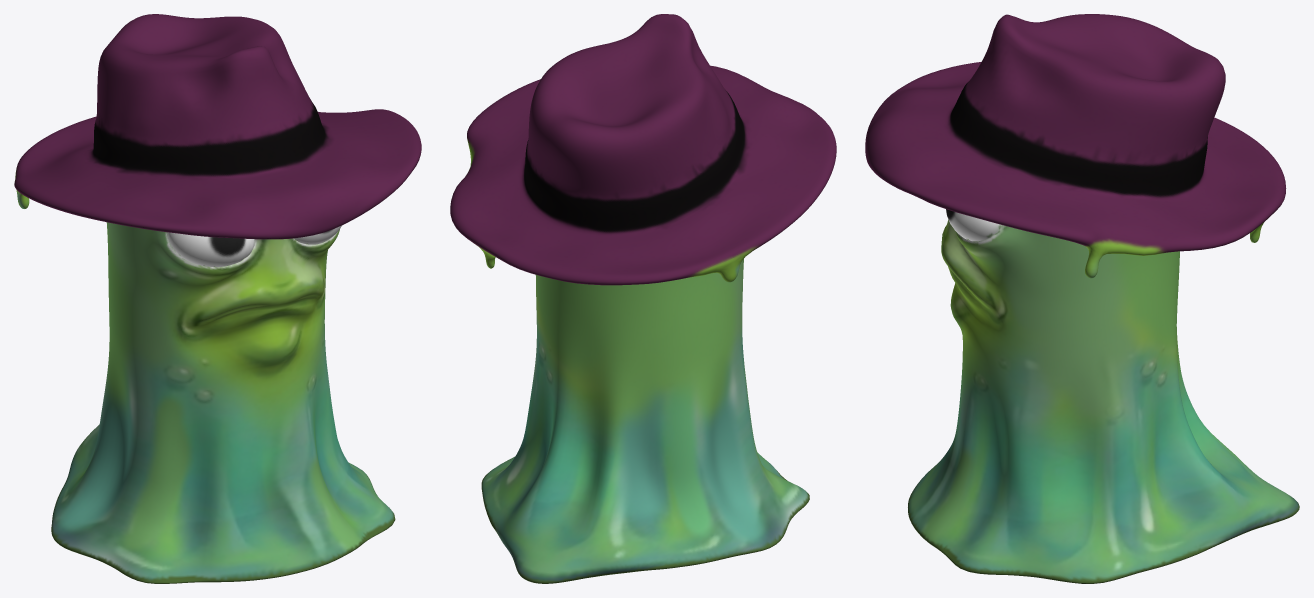
File: Muck_MainCharacter_SlimeState.fbx
3 views of the same model, side by side, from view 1: azimuth 30°, elevation 25°; view 2: azimuth 150°, elevation 25°; view 3: azimuth 270°, elevation 25° (orthographic). The views are drawn at different scales.
Parts seen in each view (by area): view 1: Muck_MainCharacter_SlimeState; view 2: Muck_MainCharacter_SlimeState; view 3: Muck_MainCharacter_SlimeState.
Part boxes in pixels (box(x1,y1,x2,y2)): Muck_MainCharacter_SlimeState: box(14, 14, 421, 583); Muck_MainCharacter_SlimeState: box(450, 14, 836, 583); Muck_MainCharacter_SlimeState: box(865, 14, 1299, 583).
Bounding box in the file's own units: 77.01 × 102 × 81.59.
Materials: 1 (1 with a texture image).
